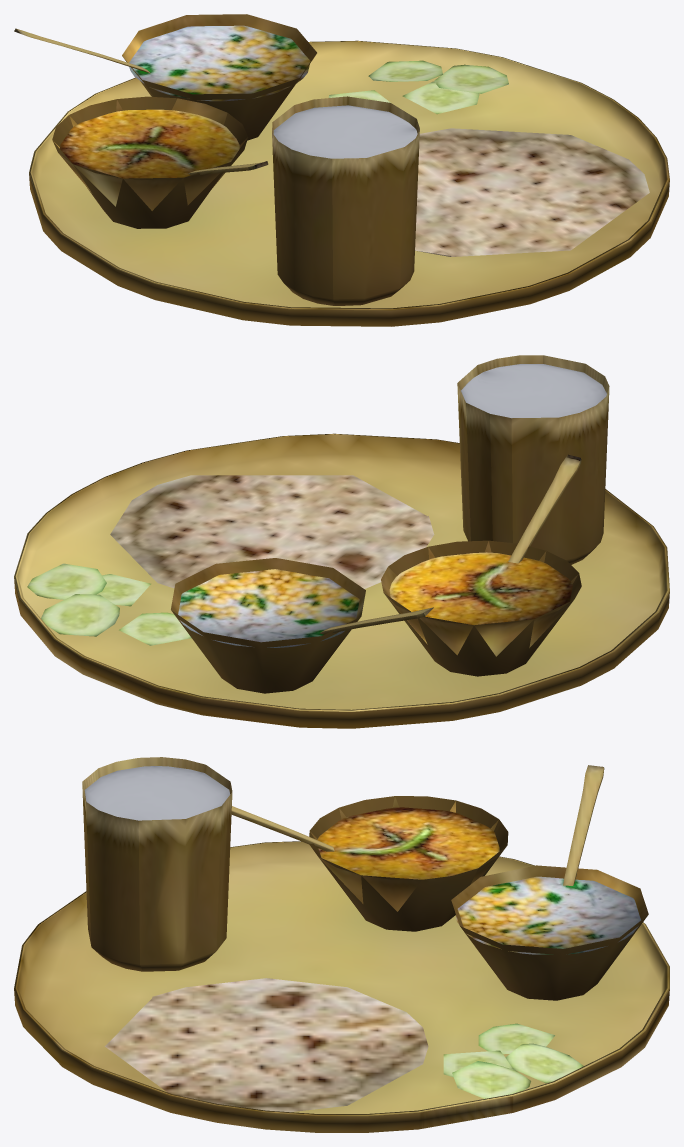
Rendered from bhandara_thaali.glb.
3 renders of one model, top to bottom at view 1: azimuth 30°, elevation 25°; view 2: azimuth 150°, elevation 25°; view 3: azimuth 270°, elevation 25°, orthographic. The views are drawn at different scales.
Parts seen in each view (by area): view 1: veg_thali2_pPlane5; view 2: veg_thali2_pPlane5; view 3: veg_thali2_pPlane5.
Part boxes in pixels (box(x1,y1,x2,y2)): veg_thali2_pPlane5: box(14, 14, 669, 326); veg_thali2_pPlane5: box(14, 355, 669, 728); veg_thali2_pPlane5: box(14, 757, 669, 1132).
Bounding box in the file's own units: 0.0563 × 0.0152 × 0.0563.
Materials: 1 (1 with a texture image).
